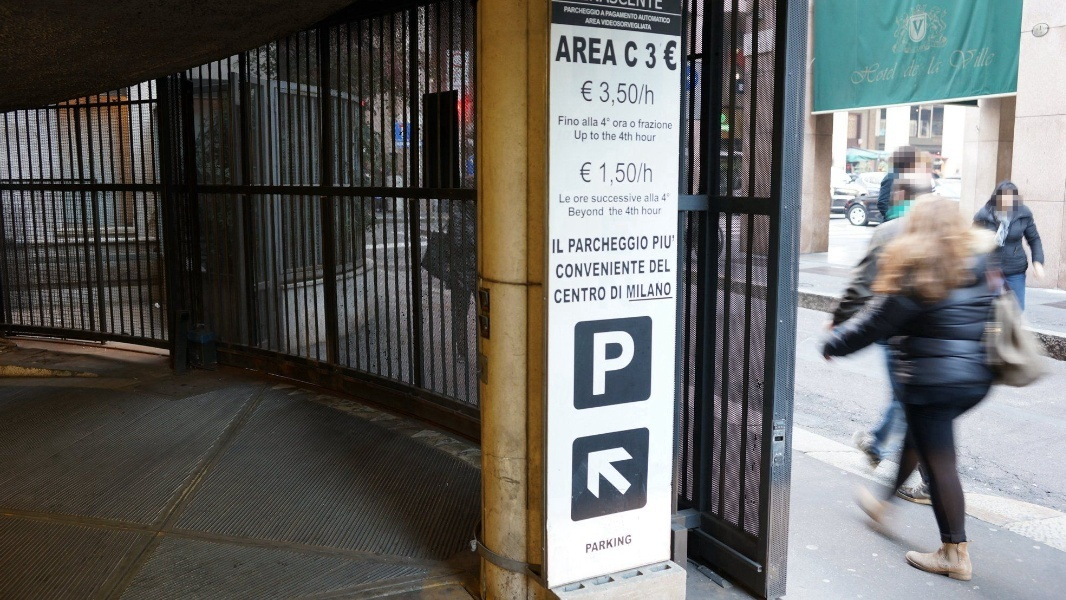text: (609, 330, 624, 396), (594, 330, 608, 396), (625, 330, 635, 396), (561, 36, 576, 65), (577, 36, 592, 65), (593, 36, 608, 65), (593, 162, 608, 190), (609, 162, 624, 190), (593, 80, 608, 108), (609, 80, 624, 108), (626, 41, 640, 69), (625, 80, 638, 108), (865, 63, 880, 86), (881, 63, 896, 86), (961, 47, 976, 70), (977, 47, 992, 70), (580, 162, 592, 190), (625, 162, 636, 190), (582, 80, 592, 108), (561, 261, 576, 279), (577, 261, 592, 279), (593, 261, 608, 279), (609, 261, 624, 279), (625, 261, 640, 279), (561, 287, 576, 305), (577, 287, 592, 305), (593, 536, 608, 554), (609, 536, 624, 554), (913, 18, 928, 36), (646, 43, 656, 69), (577, 236, 592, 253), (593, 236, 608, 253), (609, 236, 624, 253), (625, 236, 640, 253), (664, 41, 672, 71), (593, 287, 606, 305), (609, 36, 617, 65), (854, 63, 864, 86), (950, 47, 960, 70), (641, 283, 656, 298), (645, 163, 656, 183), (657, 235, 672, 249), (657, 283, 671, 298), (627, 283, 640, 298), (646, 85, 656, 104), (933, 57, 944, 74), (657, 260, 671, 273), (612, 285, 624, 300), (577, 207, 592, 219), (609, 19, 624, 30), (625, 19, 640, 30), (657, 119, 673, 129), (561, 116, 576, 126), (641, 119, 656, 129), (577, 6, 592, 16), (641, 15, 656, 25), (609, 11, 624, 21), (625, 193, 641, 202), (657, 15, 671, 25), (913, 60, 921, 77), (641, 132, 656, 141), (593, 193, 608, 202), (609, 193, 624, 202), (609, 1, 624, 10), (625, 1, 640, 10), (641, 1, 656, 10), (577, 130, 588, 142), (593, 207, 604, 219), (625, 11, 638, 21), (625, 536, 632, 554), (641, 19, 652, 30), (673, 41, 677, 71), (564, 6, 576, 16), (569, 236, 576, 253), (641, 236, 648, 253), (642, 207, 656, 215), (610, 207, 624, 215), (597, 1, 608, 10), (553, 239, 560, 253), (628, 207, 640, 215), (993, 47, 997, 70), (555, 287, 560, 305), (587, 536, 592, 554), (645, 194, 656, 202), (907, 60, 912, 77), (569, 207, 576, 219), (583, 117, 592, 126), (561, 194, 570, 203), (641, 84, 645, 104), (593, 6, 601, 16), (650, 260, 656, 273), (625, 132, 633, 141), (641, 261, 645, 279), (614, 120, 624, 127), (577, 197, 588, 203), (602, 19, 608, 30), (664, 194, 672, 202), (631, 121, 640, 128), (609, 131, 616, 140), (637, 163, 640, 183), (593, 18, 601, 25), (593, 117, 599, 126), (593, 131, 599, 140), (557, 261, 560, 279), (603, 131, 608, 140), (657, 1, 662, 10), (653, 235, 656, 249), (641, 163, 643, 183), (604, 117, 608, 127), (587, 18, 592, 25), (657, 207, 661, 215), (577, 116, 580, 126), (602, 11, 608, 16), (561, 239, 563, 253), (637, 132, 640, 141), (897, 63, 898, 86), (606, 11, 608, 21), (622, 132, 624, 141), (657, 194, 659, 202), (625, 120, 627, 127), (673, 235, 674, 249), (609, 117, 610, 127), (639, 119, 640, 129), (591, 131, 592, 140), (575, 197, 576, 203)
